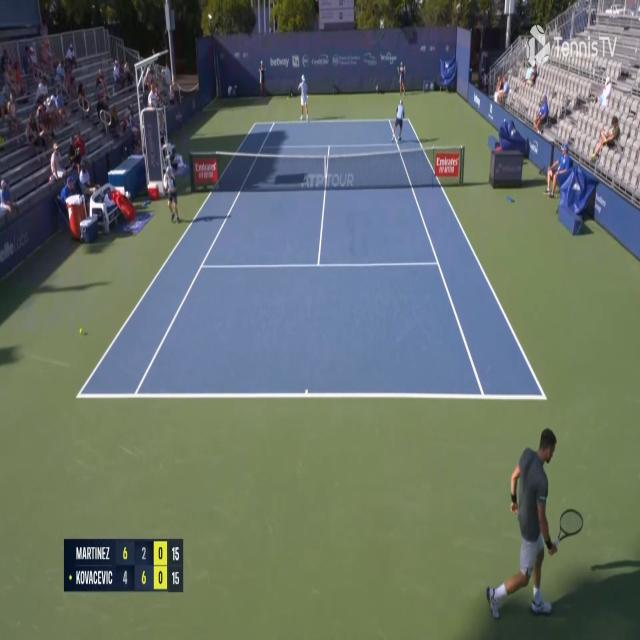tennis-player: (501, 422, 586, 627), (292, 74, 310, 122)
